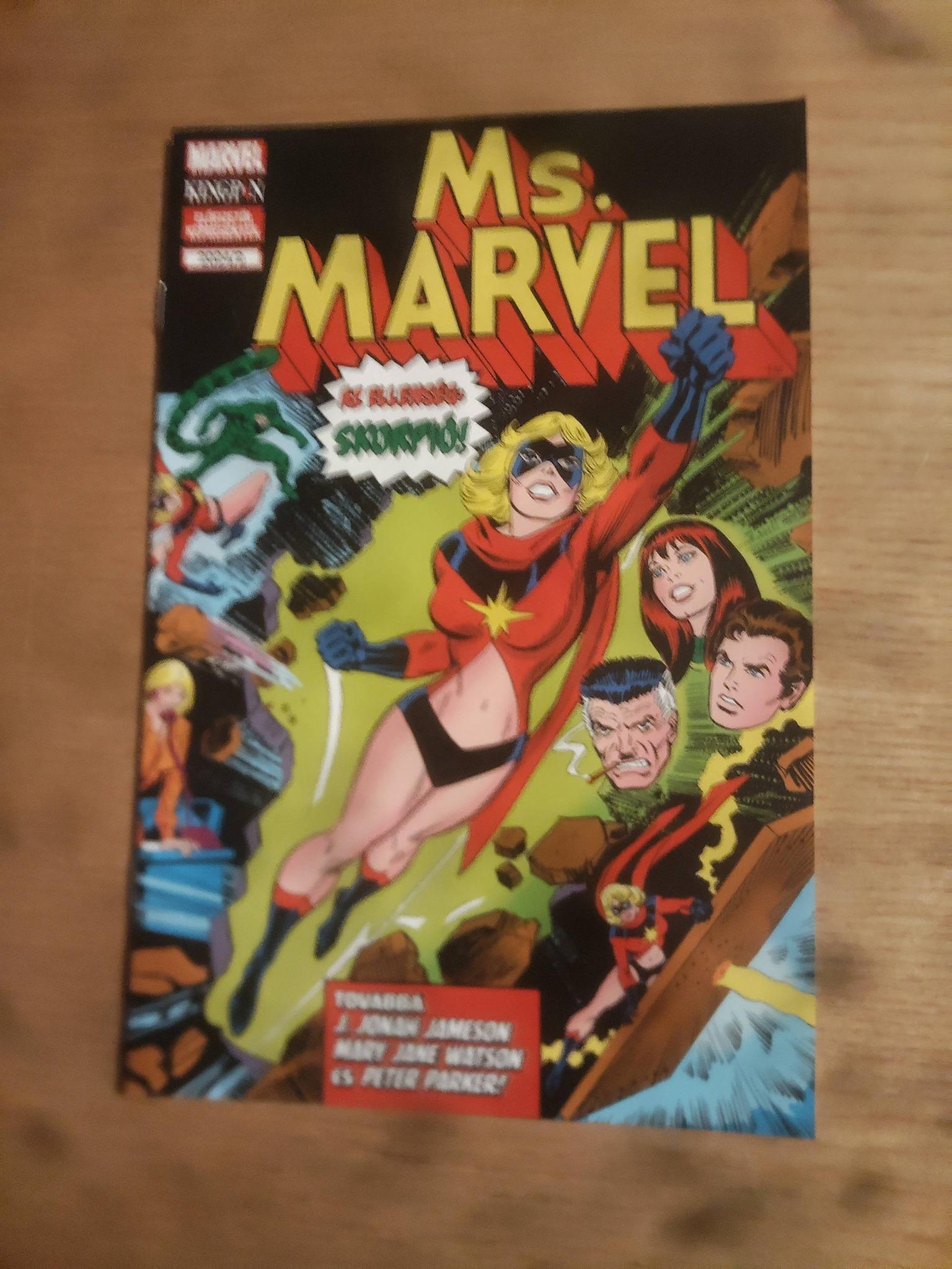comic: (121, 75, 858, 1135)
